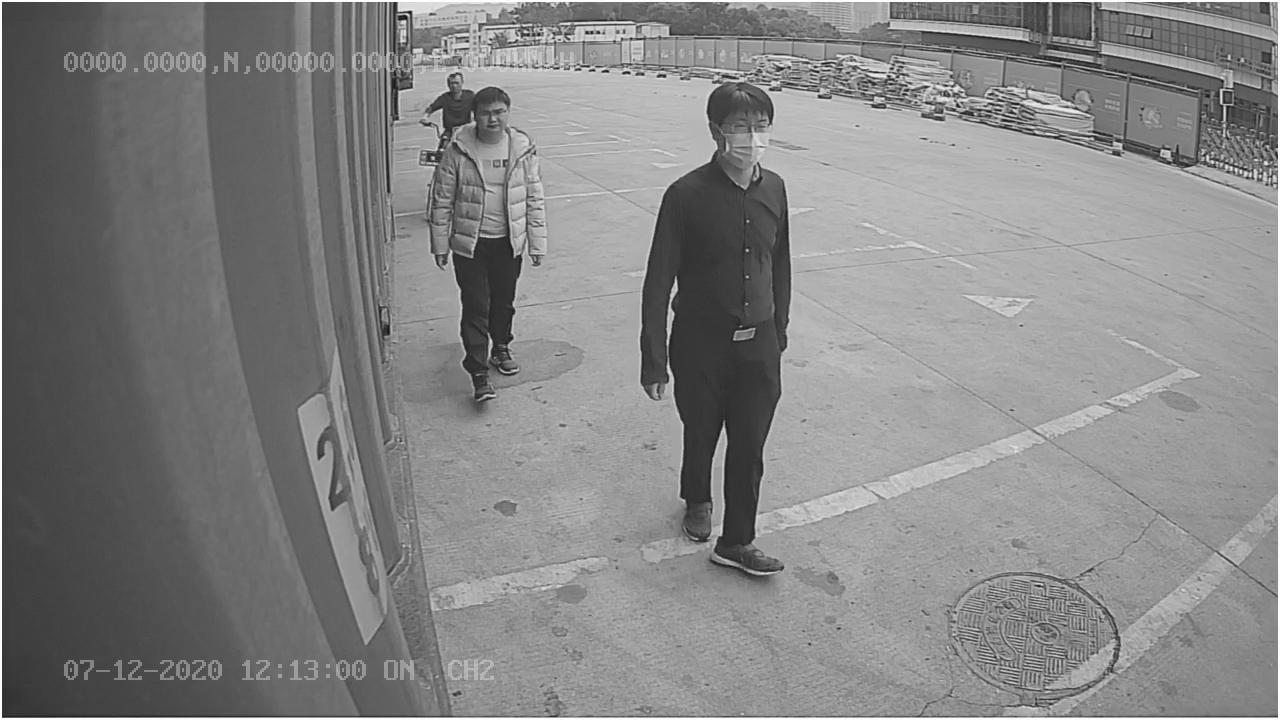person: (637, 82, 803, 580)
